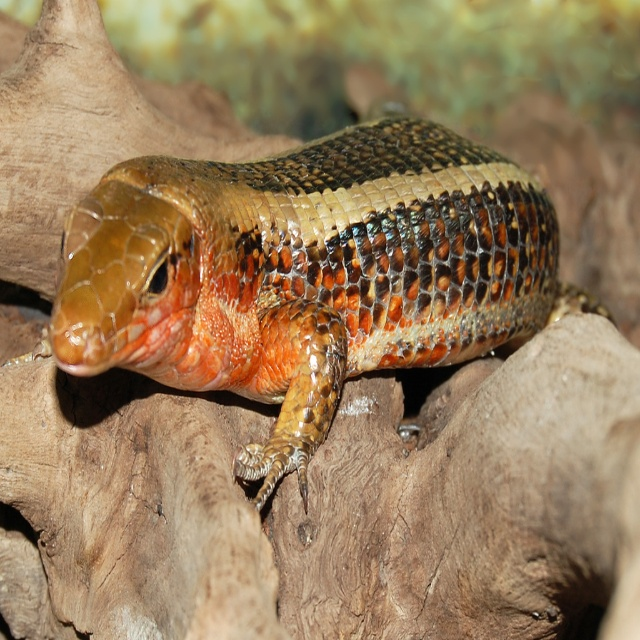Lizard: (48, 108, 556, 512)
